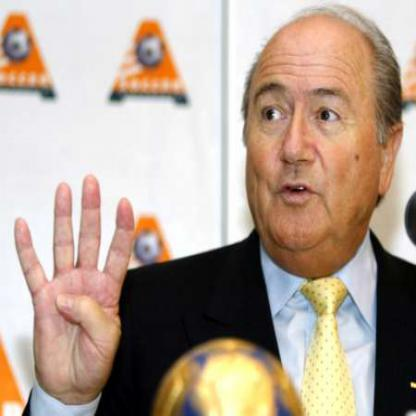face: (242, 15, 385, 270)
